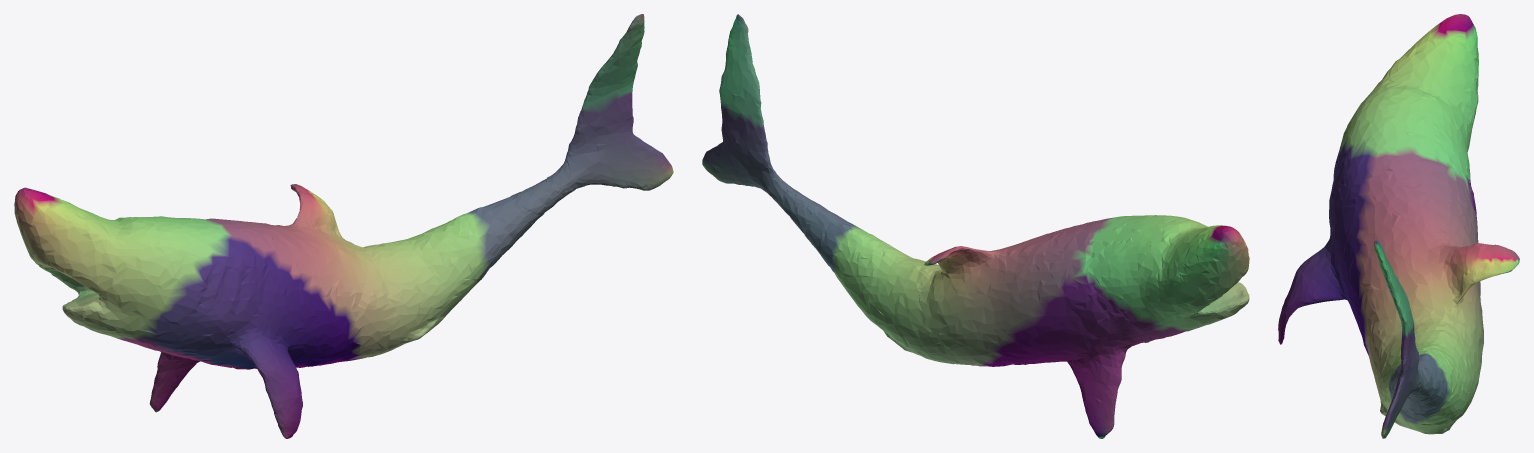
The model's file is shark-18.off.obj.
3 views of the same model, side by side, from view 1: azimuth 30°, elevation 25°; view 2: azimuth 150°, elevation 25°; view 3: azimuth 270°, elevation 25° (orthographic). The views are drawn at different scales.
Size of the model in its own units: 1.43 by 0.7087 by 0.4601.
